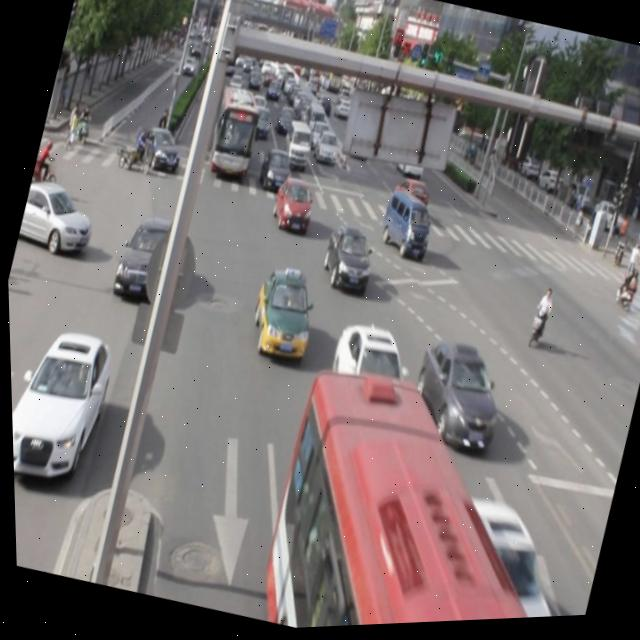car: (420, 492, 589, 626), (7, 316, 119, 486), (400, 334, 511, 459), (315, 319, 412, 437), (242, 263, 323, 362), (108, 210, 180, 306), (316, 224, 378, 298), (266, 174, 317, 235)
truck: (372, 187, 437, 263)
van: (246, 356, 629, 632)
